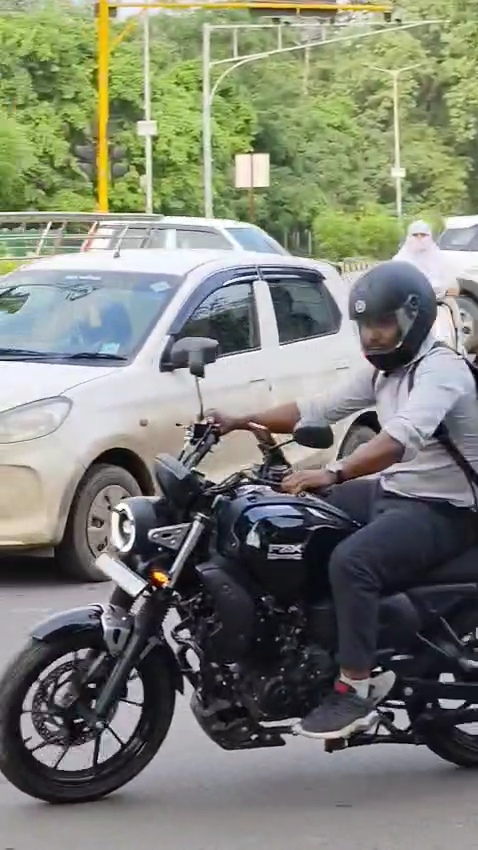BikeWithRider: (0, 256, 478, 811)
Helmet: (335, 257, 449, 372)
